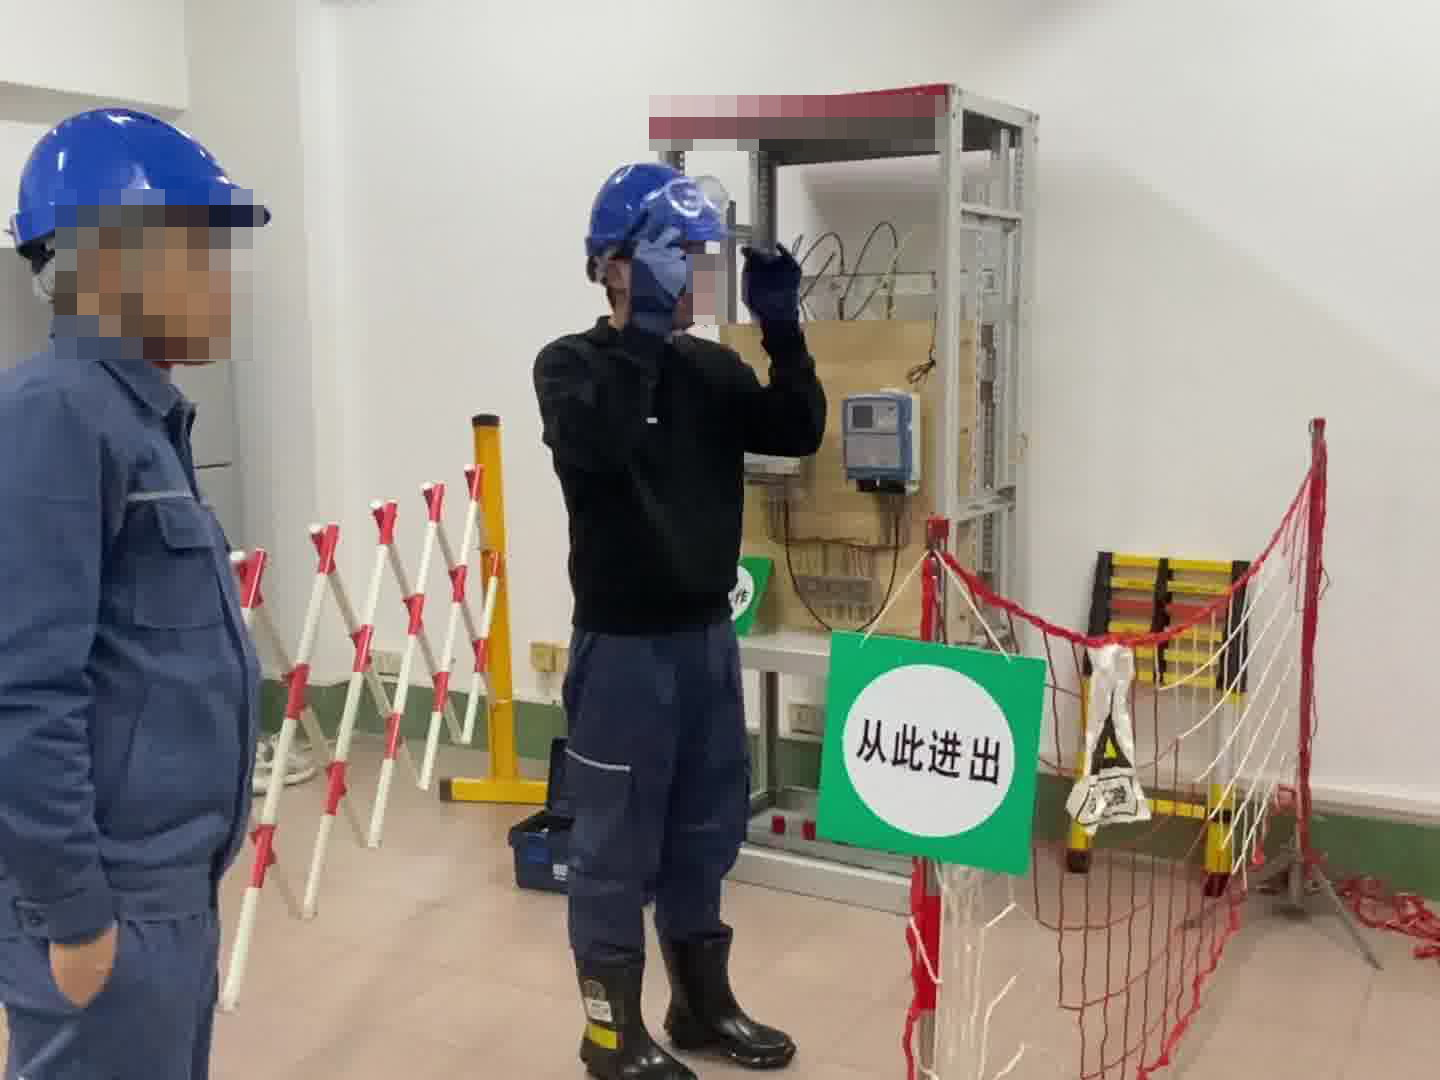downsuit: (536, 627, 756, 1011), (1, 930, 226, 1080)
glove: (618, 222, 698, 329), (733, 240, 806, 332)
halt: (9, 101, 269, 360), (578, 161, 729, 330)
inear: (43, 217, 178, 354)
intosign: (816, 614, 1048, 885)
person: (1, 100, 304, 1079), (518, 153, 824, 1067)
shoe: (655, 930, 793, 1063), (574, 956, 699, 1080)
upcloth: (535, 325, 820, 621)
upsuit: (1, 326, 273, 952)
worksign: (723, 551, 776, 648)
